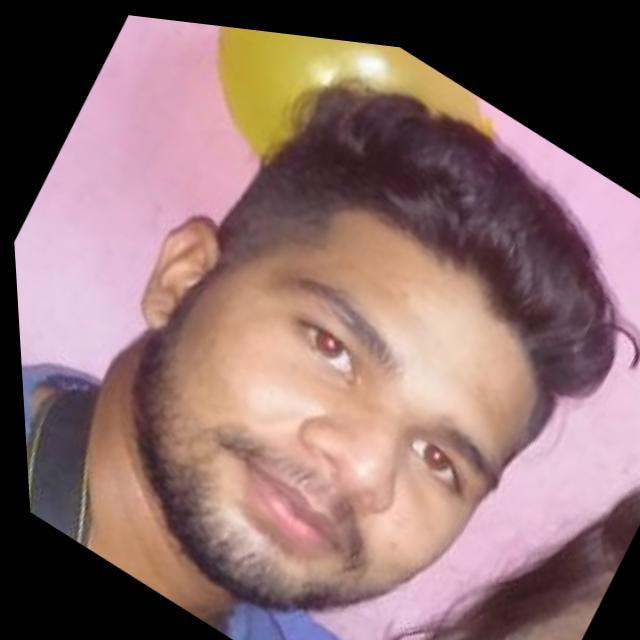Nonhelmet: (29, 72, 637, 632)
